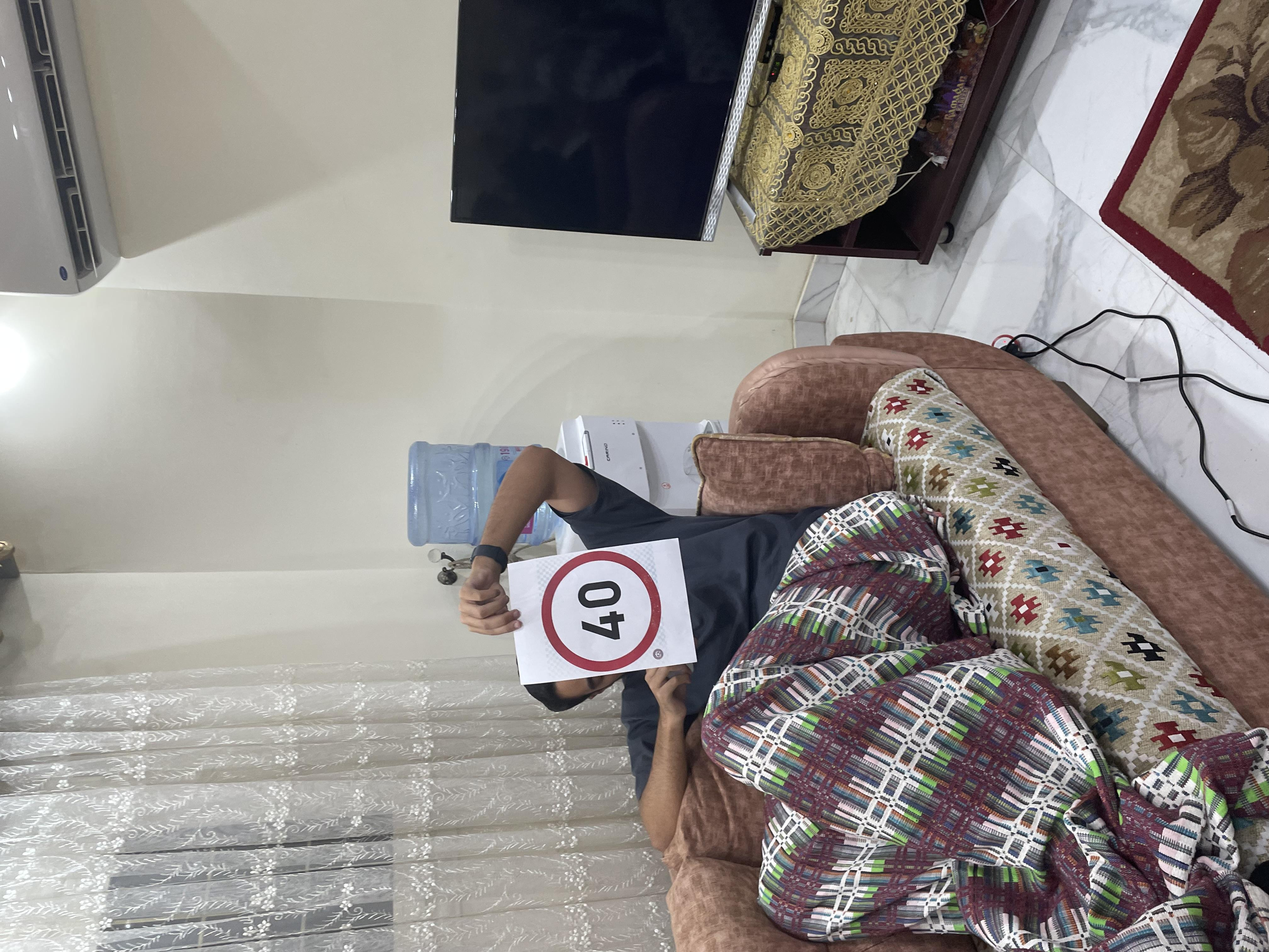40-Speed: (373, 405, 537, 498)
